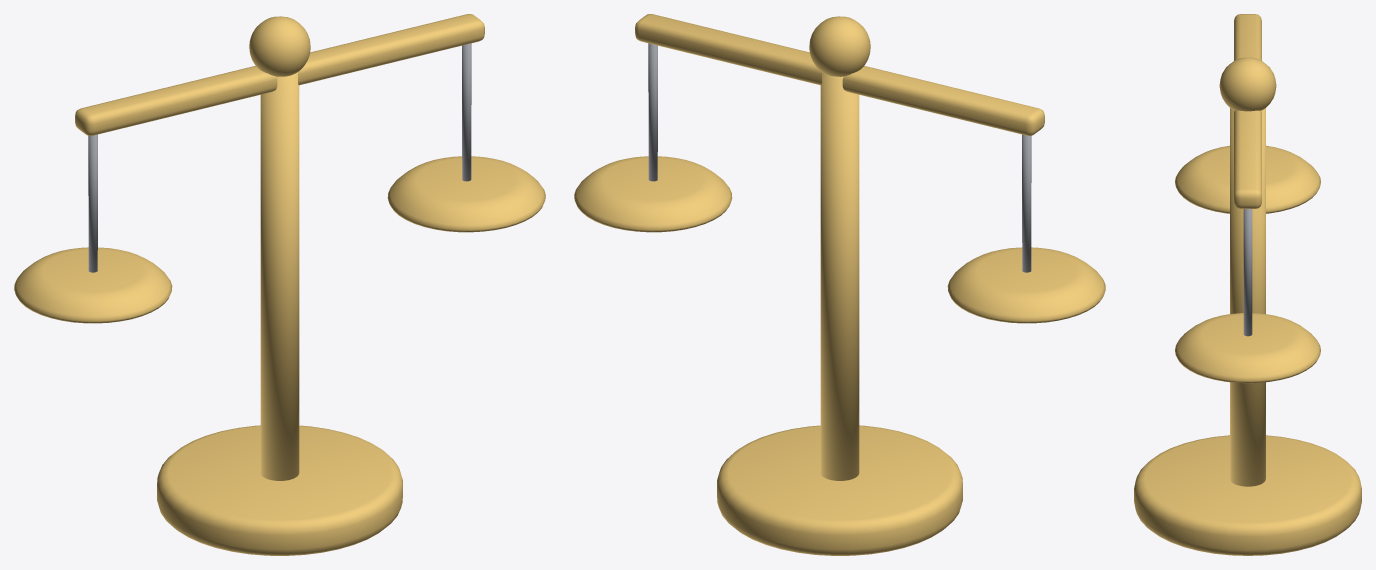
Rendered from links--licenses.glb.
The picture shows the model from 3 angles, left to right: view 1: azimuth 30°, elevation 25°; view 2: azimuth 150°, elevation 25°; view 3: azimuth 270°, elevation 25°; orthographic projection. The views are drawn at different scales.
Visible parts, largest first — view 1: links--licenses; view 2: links--licenses; view 3: links--licenses.
Boxes of the visible parts, x1,y1,x2,y2 form: links--licenses: (14, 14, 545, 555); links--licenses: (574, 14, 1105, 555); links--licenses: (1134, 14, 1361, 555).
Bounding box in the file's own units: 0.7002 × 0.6401 × 0.293.
